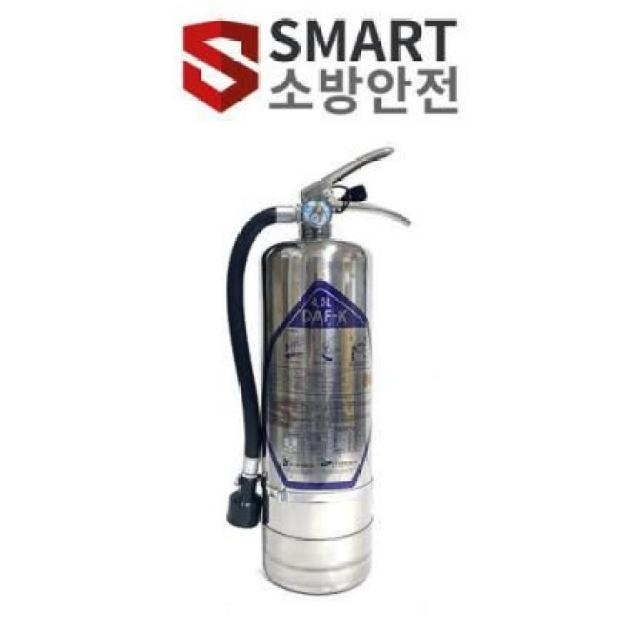fire extinguisher: (225, 147, 411, 596)
